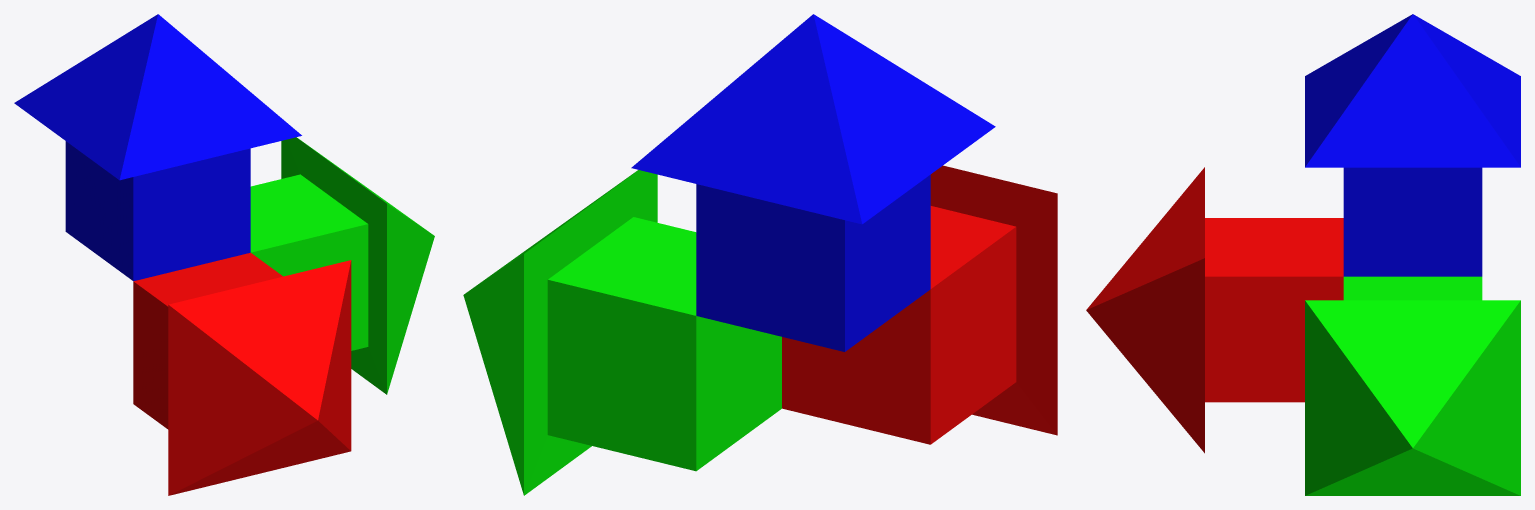
The model's file is SM_AXISSETTINGS.fbx.
The picture shows the model from 3 angles, left to right: view 1: azimuth 30°, elevation 25°; view 2: azimuth 150°, elevation 25°; view 3: azimuth 270°, elevation 25°; orthographic projection. The views are drawn at different scales.
Visible parts, largest first — view 1: XFORWARD, ZFORWARD, YFORWARD; view 2: ZFORWARD, YFORWARD, XFORWARD; view 3: YFORWARD, ZFORWARD, XFORWARD.
Boxes of the visible parts, x1,y1,x2,y2 form: XFORWARD: (133, 252, 351, 495); ZFORWARD: (14, 14, 301, 281); YFORWARD: (250, 137, 434, 394); ZFORWARD: (631, 14, 995, 351); YFORWARD: (463, 170, 781, 495); XFORWARD: (782, 165, 1057, 444); YFORWARD: (1305, 276, 1520, 495); ZFORWARD: (1305, 14, 1520, 276); XFORWARD: (1086, 167, 1343, 453).
Size of the model in its own units: 6.27 by 6.27 by 6.27.
